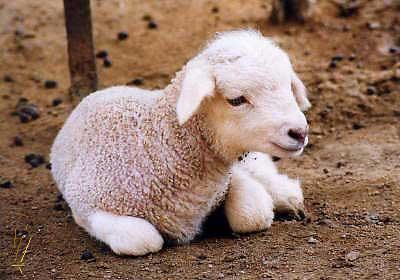tampered: (13, 214, 32, 273)
